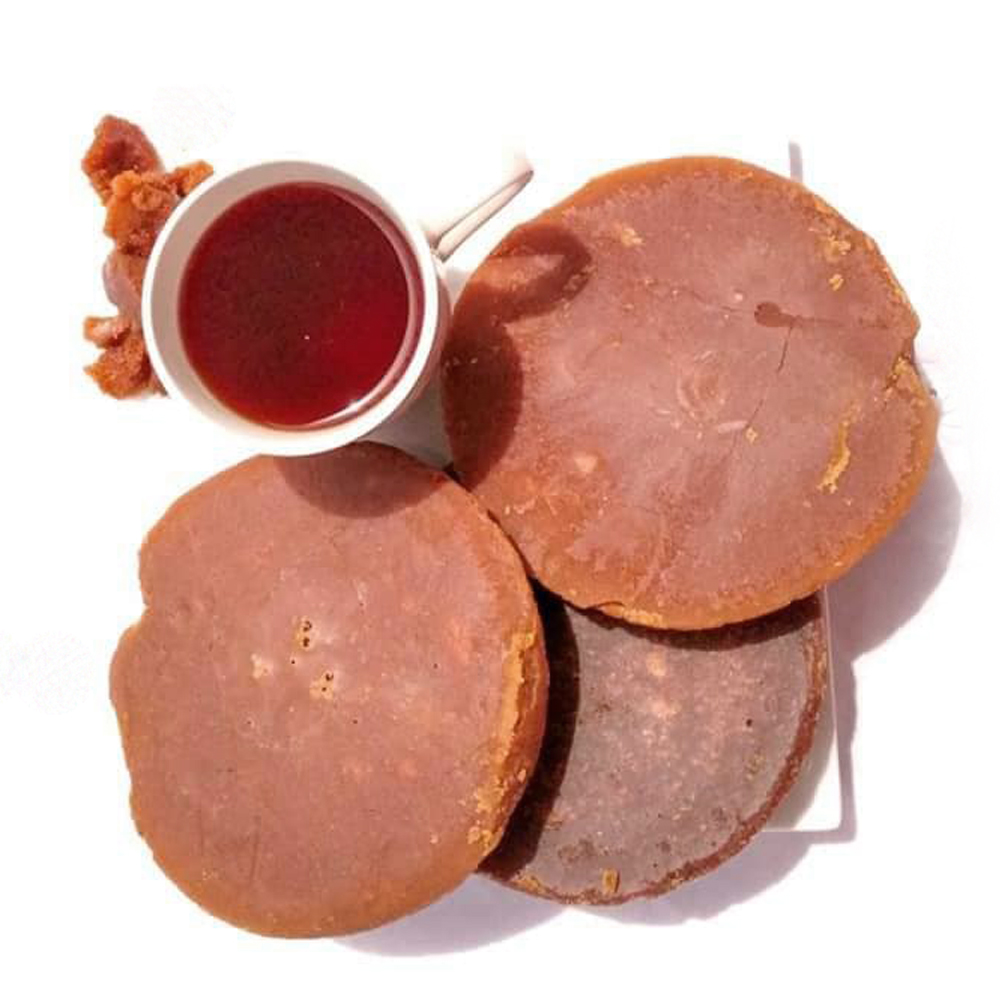hakuru: (435, 153, 941, 636), (107, 444, 540, 933)
